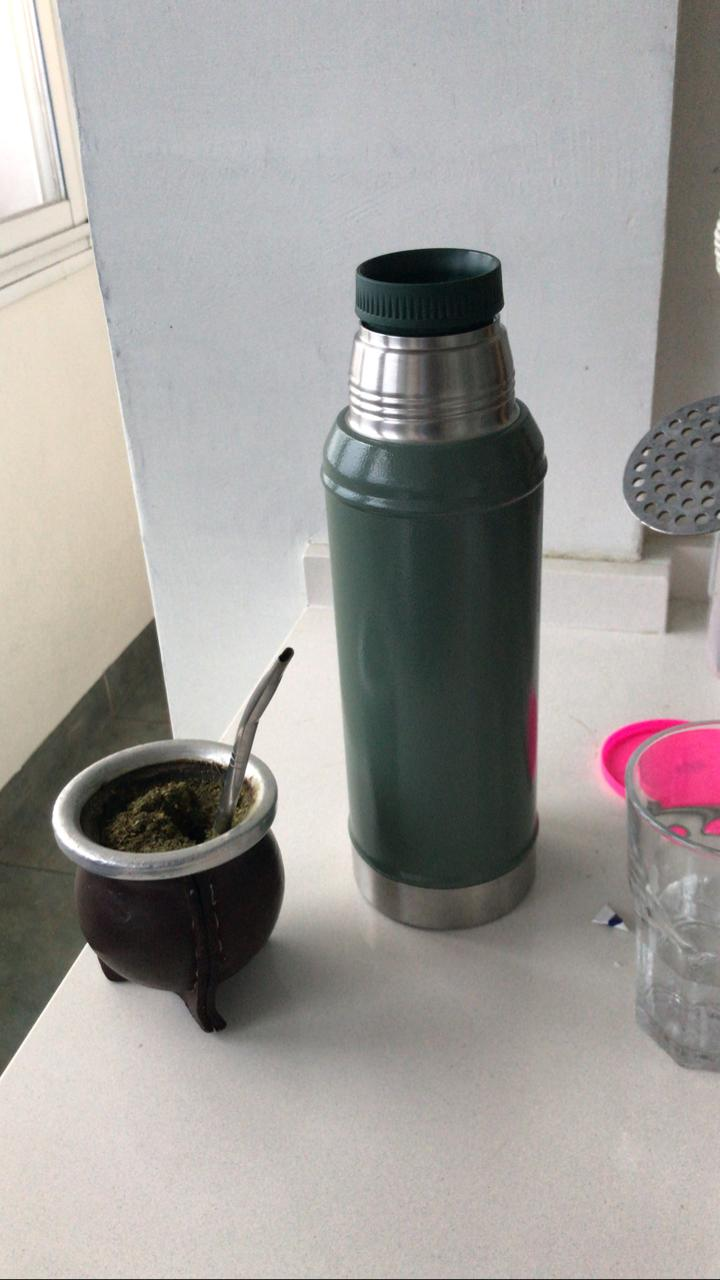mate: (52, 738, 283, 1030)
